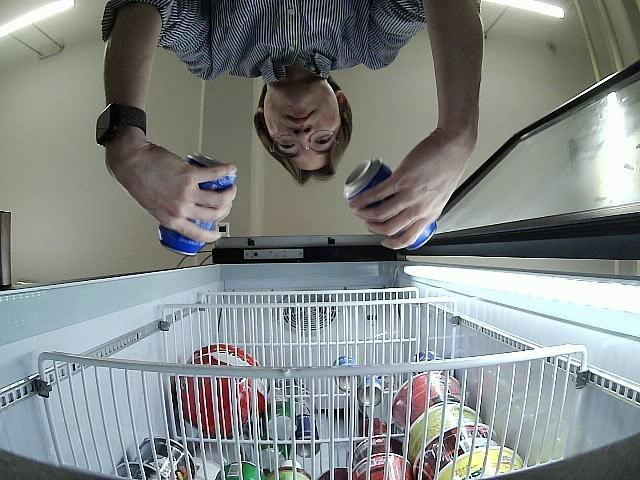13_pocariSweat: (157, 154, 237, 256), (346, 157, 436, 247)
